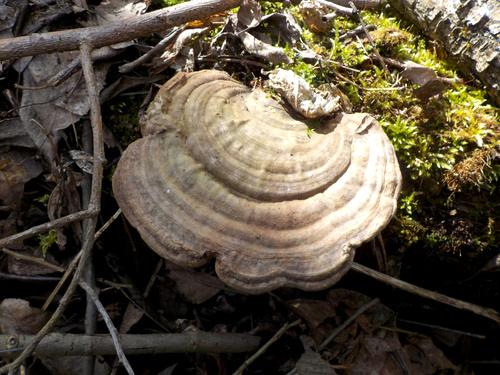Ganoderma - Fruit Body: (108, 67, 402, 290)
